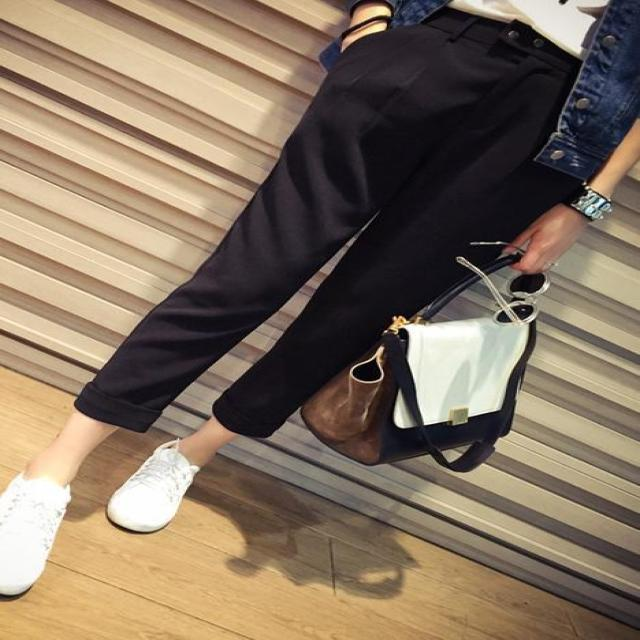trousers: (74, 2, 636, 437)
